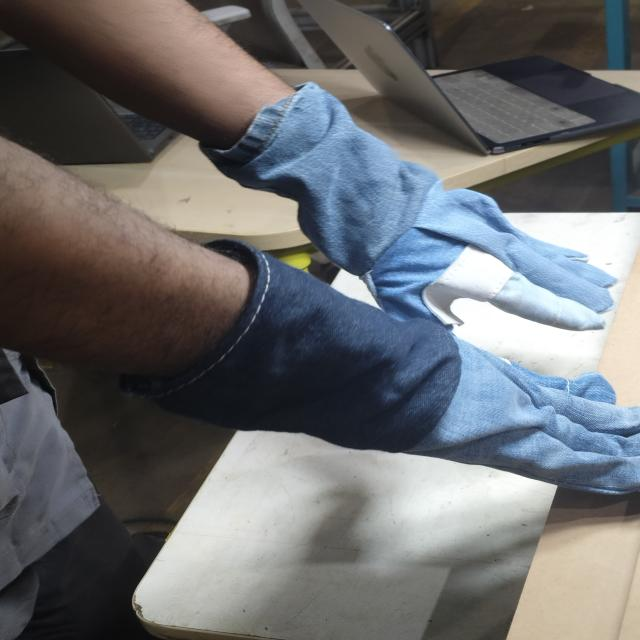Gloves-Detection: (192, 232, 638, 520), (222, 91, 602, 333)
